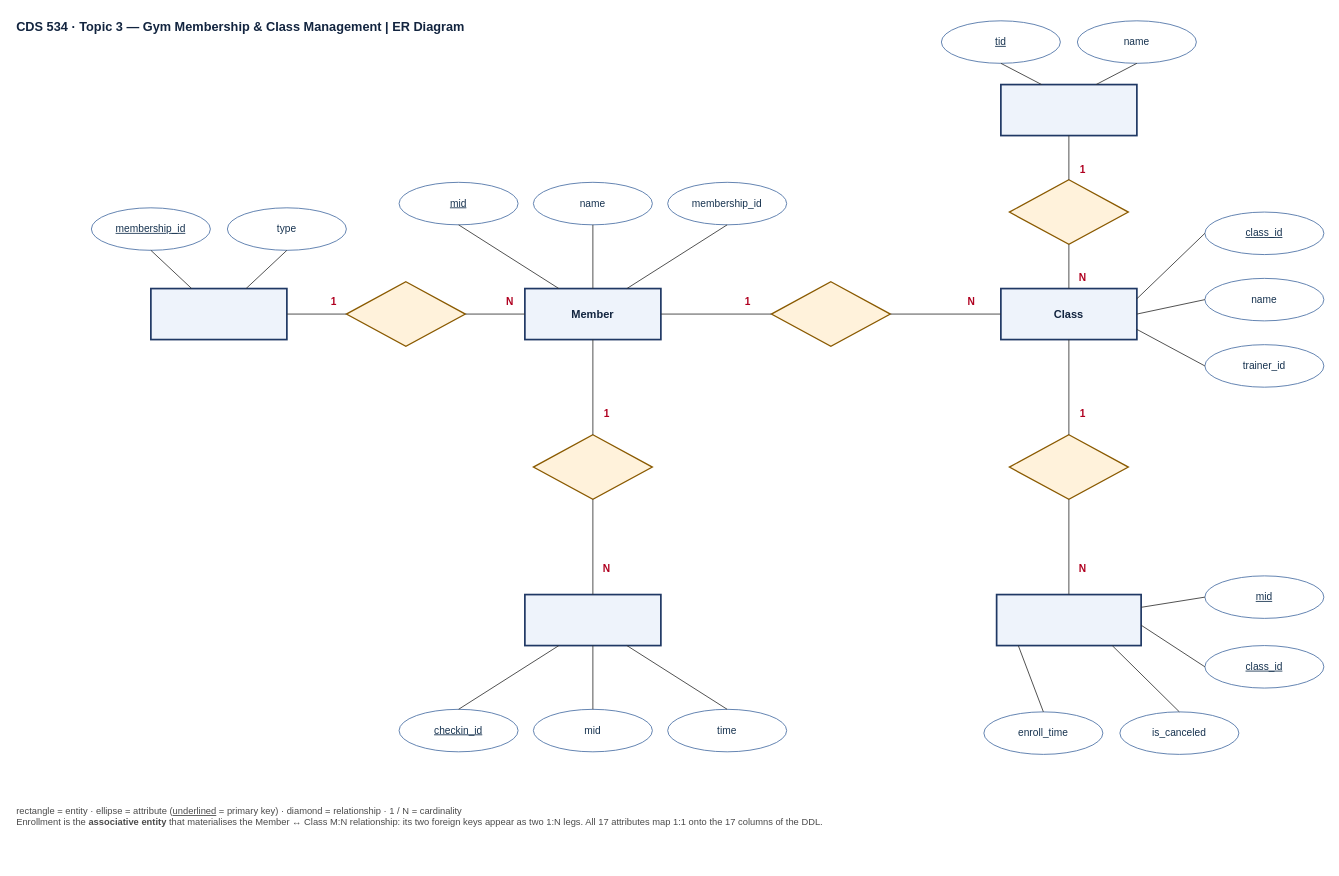
The diagram is 1339 pixels wide and 876 high, and some of its shapes have lost their labels. Each missing label, with the centre of its shape:
CheckIn: the point at 592,619
Enrollment: the point at 1068,619
enrolls: the point at 830,314
holds: the point at 405,314
includes: the point at 1068,467
Membership: the point at 218,313
teaches: the point at 1068,212
Trainer: the point at 1068,109
visits: the point at 592,467
